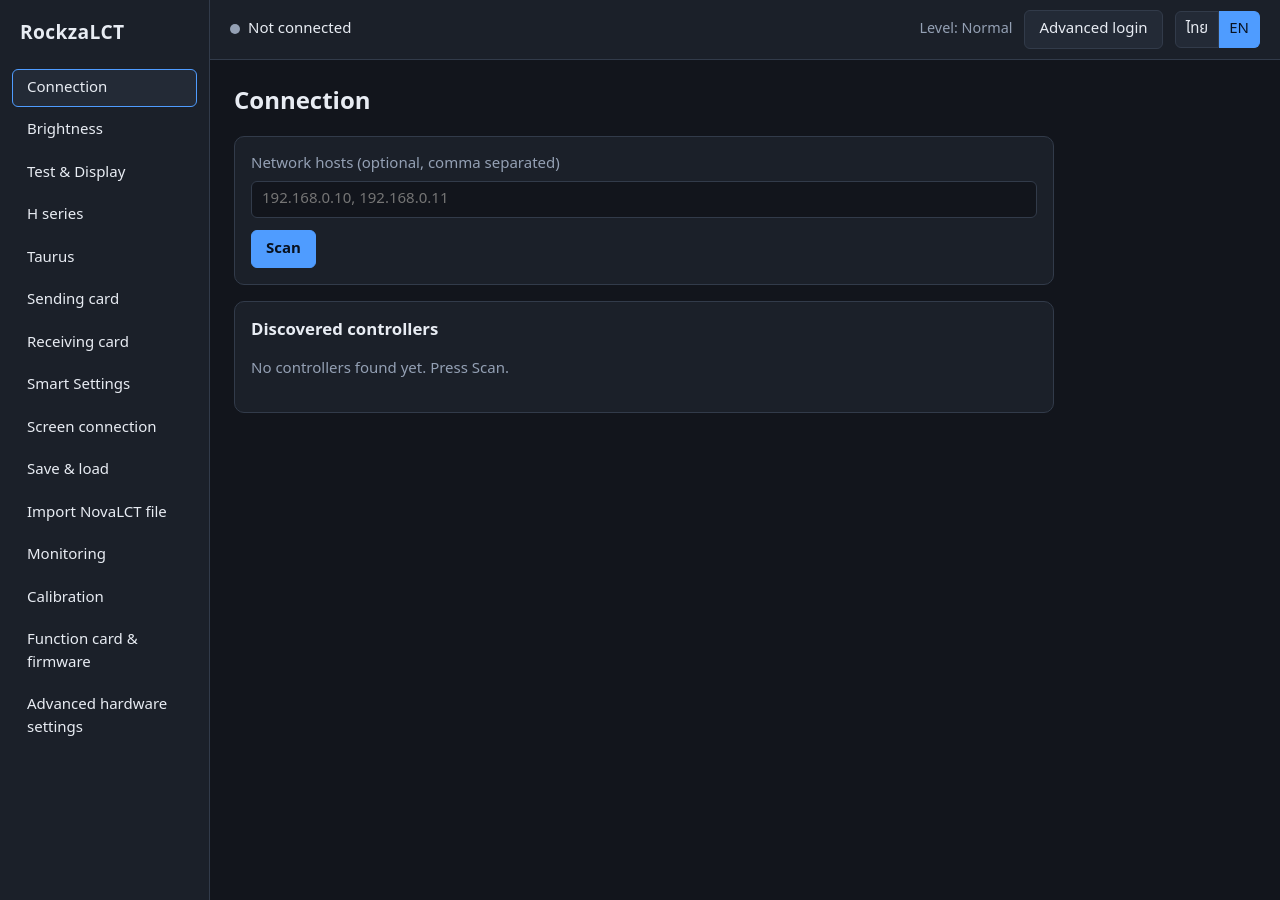
AdvancedSettingsPage: what is shown › shows the MCTRL / VX scope line for a sending card or nothing connected
Click the button "Advanced hardware settings".
click(104, 717)  # box x1=12 y1=686 x2=197 y2=747
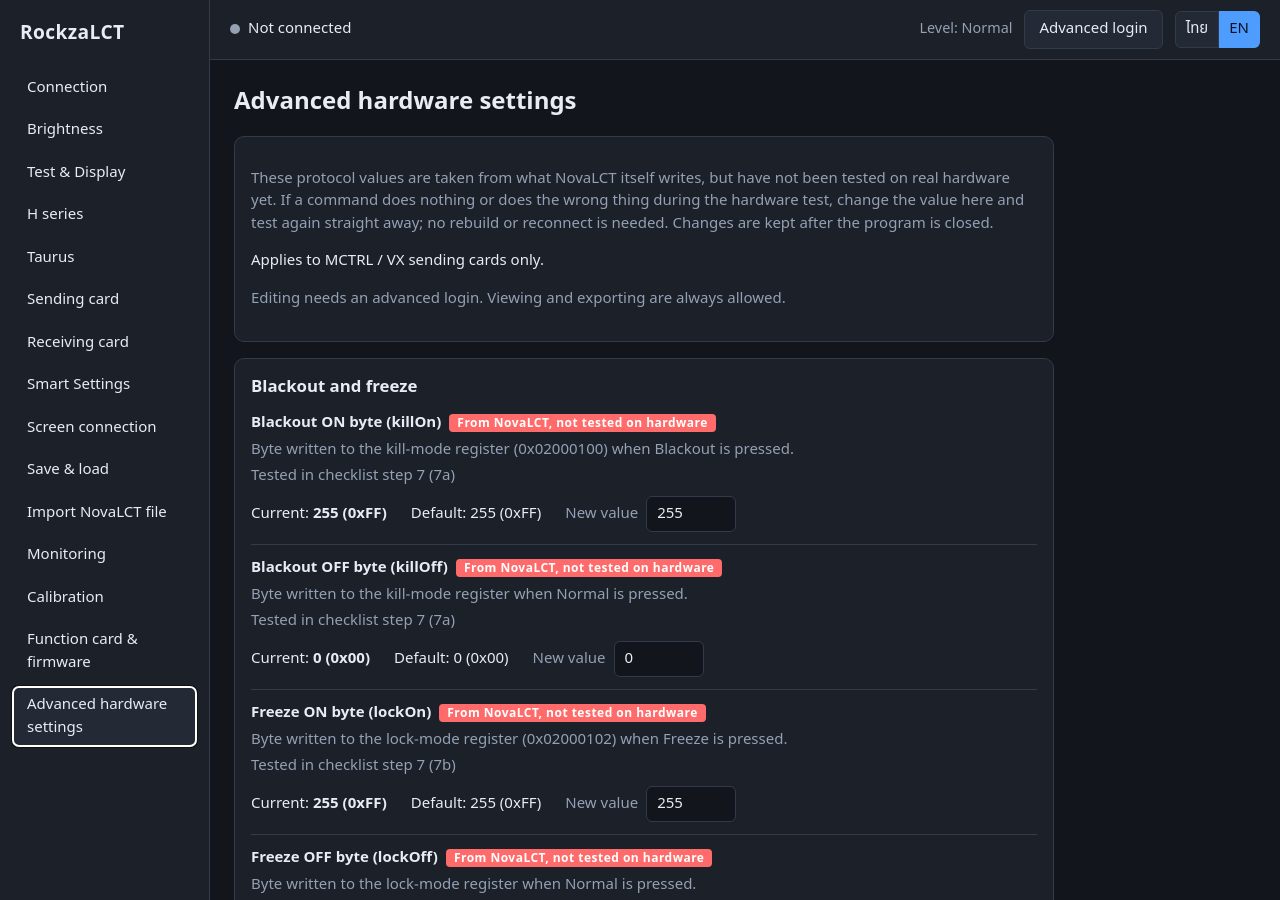
Expected: the element with test id "adv-row-killOn" is shown, x1=251 y1=411 x2=794 y2=532
Expected: the text with test id "adv-scope" reads "Applies to MCTRL / VX sending cards only.", x1=251 y1=249 x2=544 y2=272
